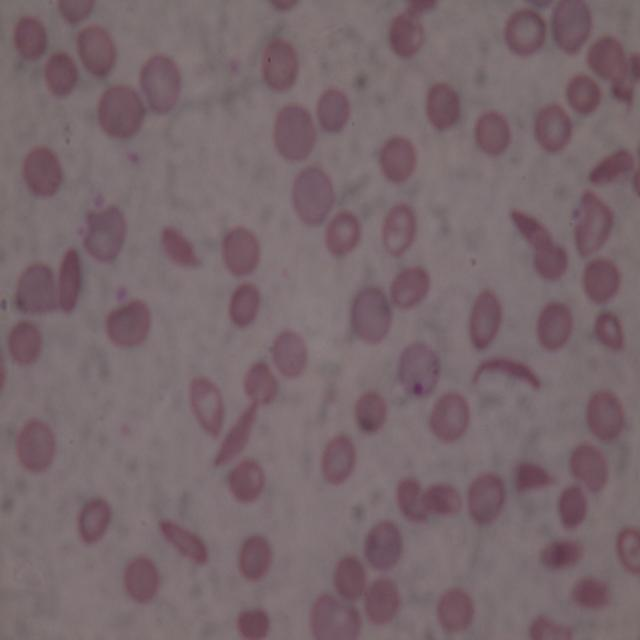Crystal: (157, 518, 211, 567), (158, 224, 202, 274), (588, 144, 635, 187), (566, 575, 616, 613), (56, 250, 81, 318), (536, 538, 588, 570), (510, 461, 552, 497)
Normal: (504, 6, 546, 57), (533, 100, 572, 152), (325, 210, 364, 256)
Others: (570, 190, 618, 256), (95, 82, 146, 144), (138, 51, 182, 113), (81, 202, 126, 262), (348, 286, 393, 346), (272, 102, 317, 161), (290, 168, 336, 225), (106, 297, 153, 351), (308, 593, 362, 640), (399, 336, 441, 396), (186, 378, 226, 440), (13, 262, 57, 316), (16, 415, 55, 475), (22, 144, 66, 197), (472, 107, 511, 164), (467, 470, 506, 526), (551, 1, 592, 54), (259, 38, 299, 92), (588, 389, 626, 444), (569, 442, 610, 492), (378, 133, 418, 184), (121, 555, 161, 606), (430, 391, 469, 443), (271, 327, 309, 380), (424, 81, 463, 132), (466, 290, 499, 350), (76, 24, 114, 76), (222, 225, 260, 277), (226, 456, 267, 504), (241, 360, 280, 410), (365, 574, 401, 628), (587, 36, 628, 82), (382, 201, 415, 258), (78, 492, 112, 546), (590, 307, 628, 355), (388, 268, 429, 312), (322, 431, 356, 484), (316, 86, 352, 136), (365, 519, 401, 568), (537, 300, 572, 350), (582, 256, 621, 300), (388, 13, 426, 58), (332, 552, 367, 600), (44, 52, 80, 98), (12, 16, 48, 61), (237, 535, 273, 579), (564, 72, 600, 116), (228, 281, 262, 326), (437, 590, 473, 632), (8, 319, 42, 363), (419, 482, 463, 516), (531, 242, 570, 279), (398, 474, 427, 523), (557, 487, 588, 532), (236, 607, 271, 640), (355, 392, 384, 430)
Sickle: (209, 400, 261, 470), (471, 351, 541, 395), (509, 207, 553, 249)
Target: (616, 525, 640, 574)
